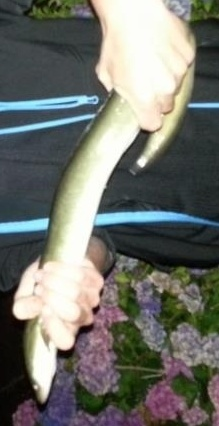Anguilla anguilla: (20, 20, 199, 406)
